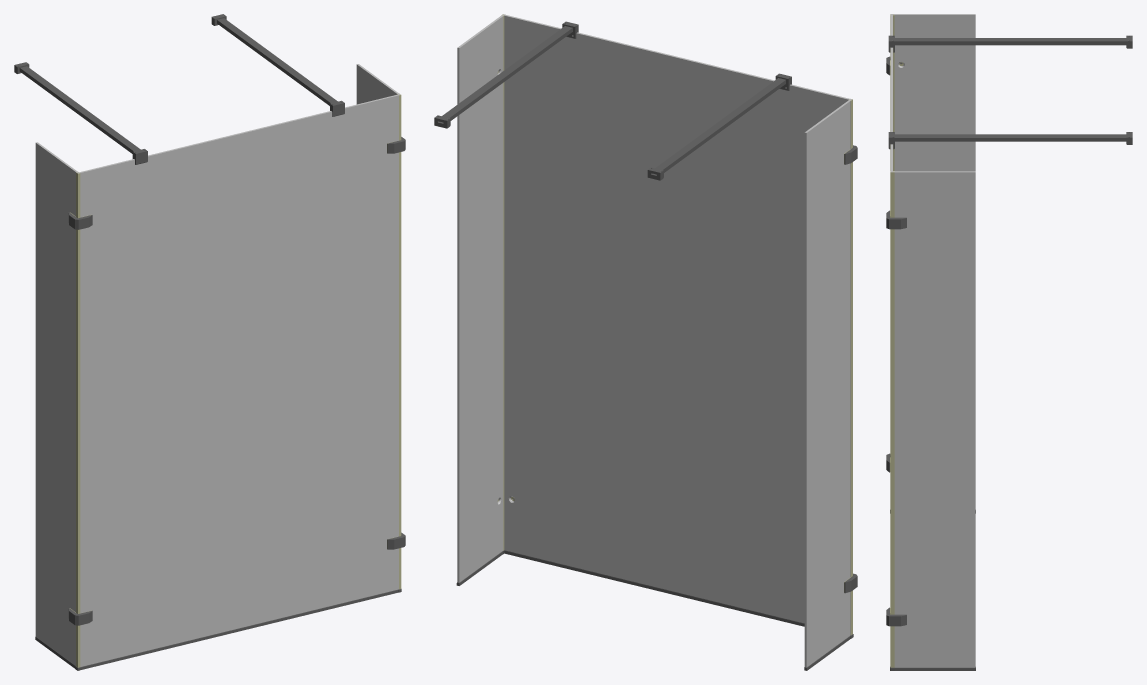
File: AEC_22160.glb
The picture shows the model from 3 angles, left to right: view 1: azimuth 30°, elevation 25°; view 2: azimuth 150°, elevation 25°; view 3: azimuth 270°, elevation 25°; orthographic projection. The views are drawn at different scales.
Parts seen in each view (by area): view 1: 1; view 2: 1; view 3: 1.
Part boxes in pixels (left/top/right/bottom): 1: left=14, top=14, right=405, bottom=670; 1: left=434, top=14, right=857, bottom=670; 1: left=886, top=14, right=1132, bottom=670.
Bounding box in the file's own units: 1.39 × 2.03 × 0.8959.
1 material, 1 textured.
